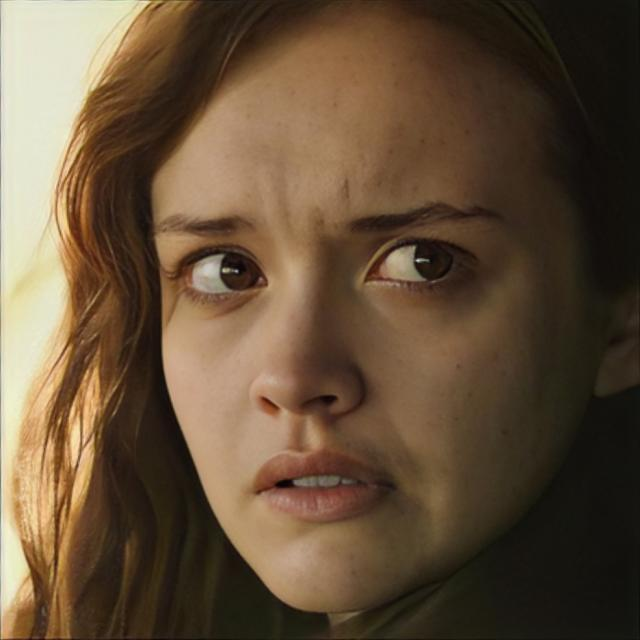fear: (147, 1, 590, 615)
